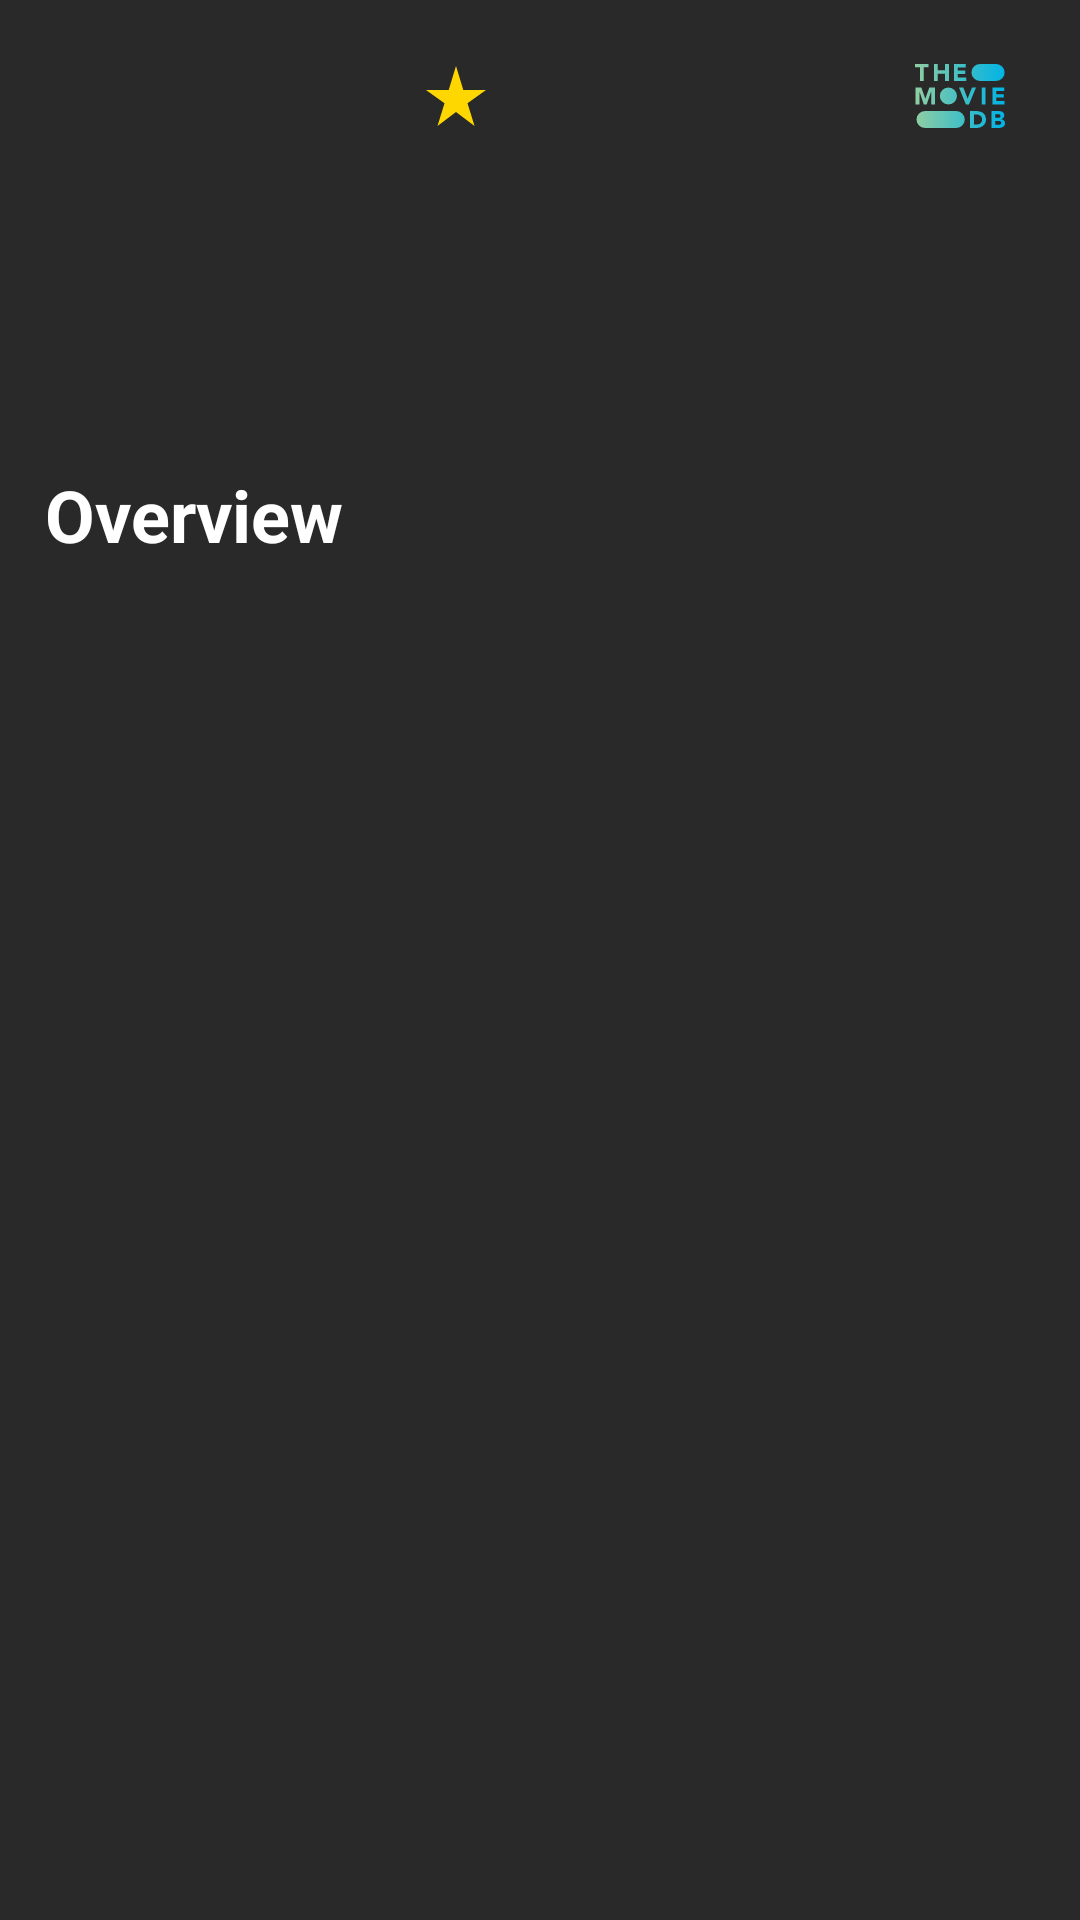

Screen size 1080×1920. Icon name, then its center in pixels as (x,y):
star: (456,96)
